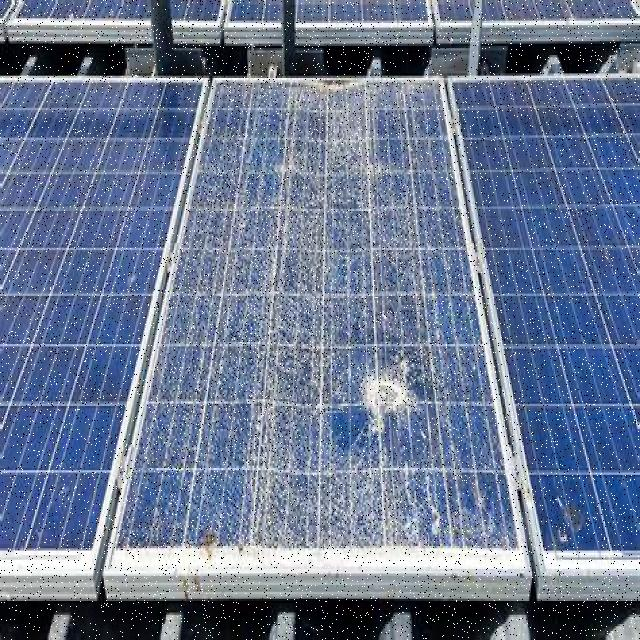physical damage: (136, 74, 518, 577)
